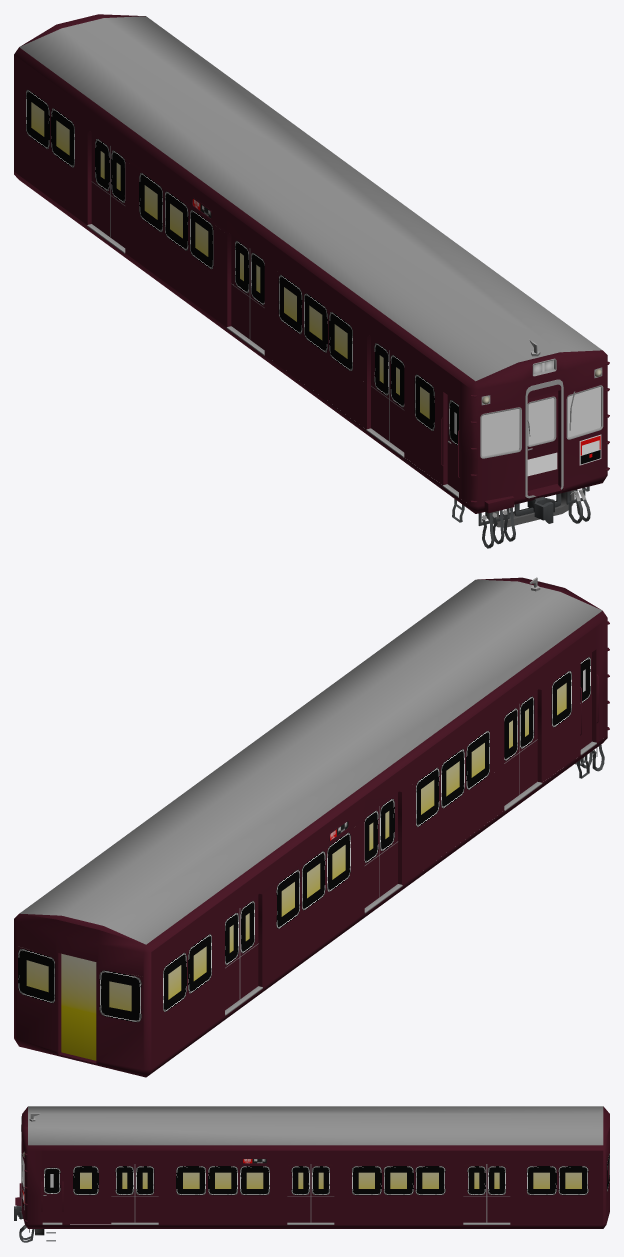
3 views of the same model, one above another, from view 1: azimuth 30°, elevation 25°; view 2: azimuth 150°, elevation 25°; view 3: azimuth 270°, elevation 25° (orthographic). The views are drawn at different scales.
Visible parts, largest first — view 1: IN; view 2: IN; view 3: IN.
Boxes of the visible parts, box(x1,y1,x2,y2) form: IN: box(14, 14, 609, 548); IN: box(14, 577, 609, 1077); IN: box(14, 1106, 609, 1242).
Size of the model in its own units: 6.68 by 8.36 by 38.95.
19 materials, 17 textured.
